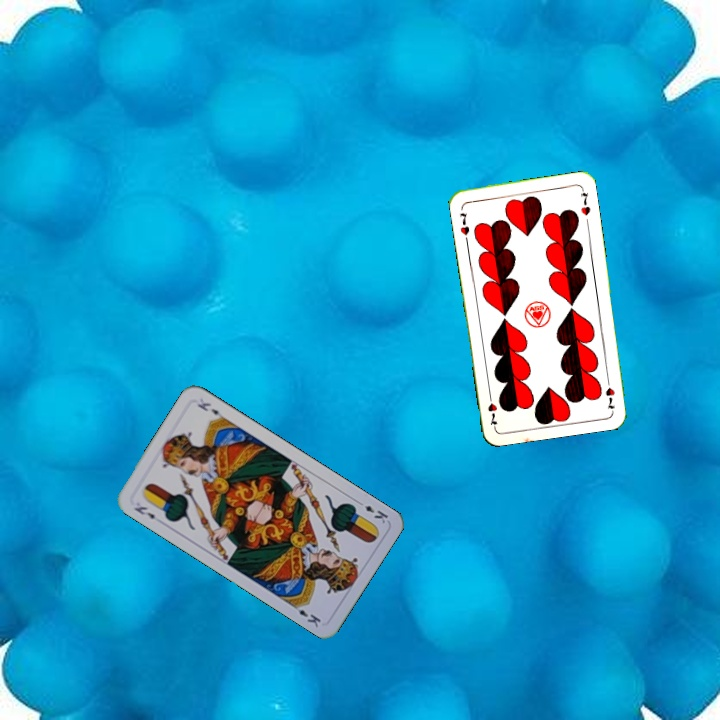EK: (353, 497, 391, 526), (130, 502, 158, 522)
H7: (601, 373, 617, 412), (455, 208, 472, 238)
